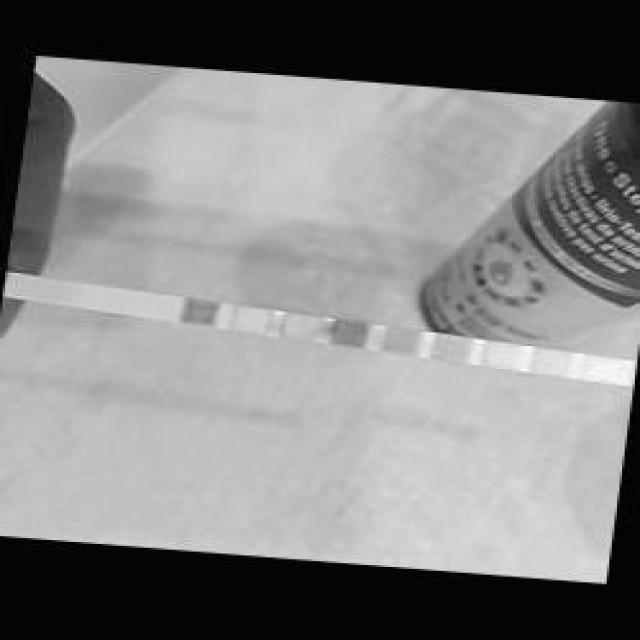Bilirubin: (237, 308, 264, 331)
Blood: (388, 330, 417, 352)
Glucose: (187, 300, 215, 325)
Ketone: (289, 316, 315, 338)
Leukocytes: (624, 362, 635, 385)
Nitrite: (586, 358, 614, 381)
Protein: (488, 345, 519, 366)
SpGravity: (338, 322, 364, 345)
Urobilinogen: (533, 352, 570, 375)
background: (0, 0, 640, 640)
pH: (438, 339, 469, 360)
strip: (4, 274, 636, 388)
